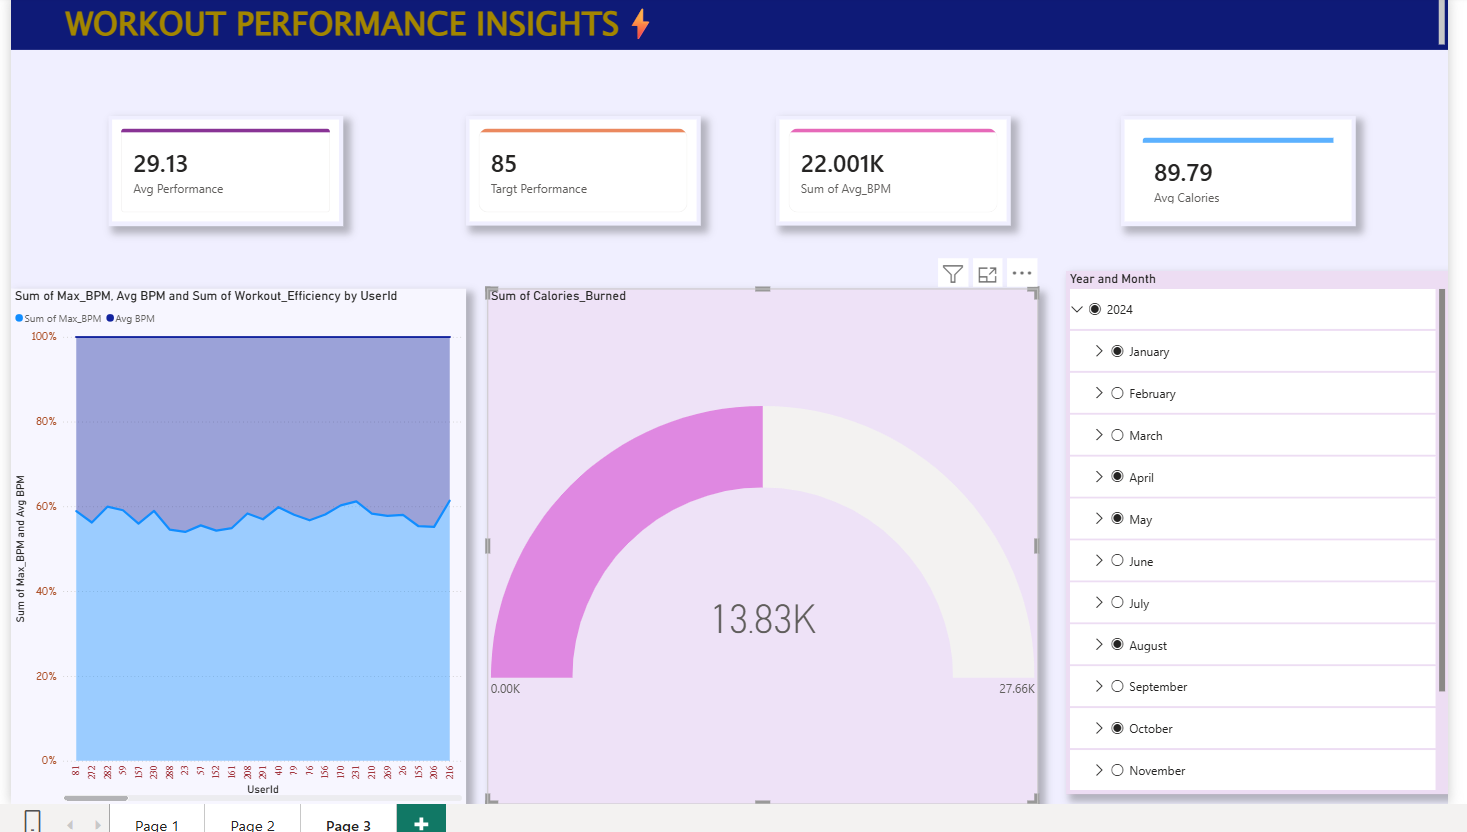

This screenshot's page, from the dashboard's own definition file:
{"tool":"powerbi","page":{"name":"Page 3","canvas":[1920,1080],"ordinal":2},"visuals":[{"type":"textbox","box":[0,0,1920.1,72.4],"z":0},{"type":"cardVisual","fields":{"Data":["Performance_Metrics.Avg Performance"]},"box":[130.2,160.3,313.9,146.9],"z":1000},{"type":"cardVisual","fields":{"Data":["Sum(Performance_Metrics.Avg_BPM)"]},"box":[1022.1,160.5,314,146.5],"z":2000},{"type":"cardVisual","fields":{"Data":["Performance_Metrics.Avg Calories"]},"box":[1482.8,160.3,313.9,146.9],"z":4000},{"type":"gauge","fields":{"Y":["Sum(Performance_Metrics.Calories_Burned)"]},"box":[636.2,390.7,736.4,689.6],"z":5000},{"type":"listSlicer","fields":{"Values":["User_Info.Date.Variation.Date Hierarchy.Year","User_Info.Date.Variation.Date Hierarchy.Month","User_Info.Date.Variation.Date Hierarchy.Day"]},"box":[1409.3,368,511,699.4],"z":6000},{"type":"hundredPercentStackedAreaChart","fields":{"Category":["Performance_Metrics.UserId"],"Y":["Sum(Performance_Metrics.Max_BPM)","Performance_Metrics.Avg BPM"]},"box":[0,390.7,607.8,689.6],"z":7000},{"type":"cardVisual","fields":{"Data":["Performance_Metrics.Targt Performance"]},"box":[607,160.5,314,146.5],"z":7001}]}

Visuals, with their boxes on the page's 1920x1080 design canvas (x1, y1, x2, y2). These are canvas units, not pixel positions in the 1467x832 screenshot, which may show the page scaled, cropped or inside an application window:
textbox: <bbox>0, 0, 1920, 72</bbox>
cardVisual - Performance_Metrics.Avg Performance: <bbox>130, 160, 444, 307</bbox>
cardVisual - Sum(Performance_Metrics.Avg_BPM): <bbox>1022, 160, 1336, 307</bbox>
cardVisual - Performance_Metrics.Avg Calories: <bbox>1483, 160, 1797, 307</bbox>
gauge - Sum(Performance_Metrics.Calories_Burned): <bbox>636, 391, 1373, 1080</bbox>
listSlicer - User_Info.Date.Variation.Date Hierarchy.Year x User_Info.Date.Variation.Date Hierarchy.Month: <bbox>1409, 368, 1920, 1067</bbox>
hundredPercentStackedAreaChart - Performance_Metrics.UserId x Sum(Performance_Metrics.Max_BPM): <bbox>0, 391, 608, 1080</bbox>
cardVisual - Performance_Metrics.Targt Performance: <bbox>607, 160, 921, 307</bbox>
